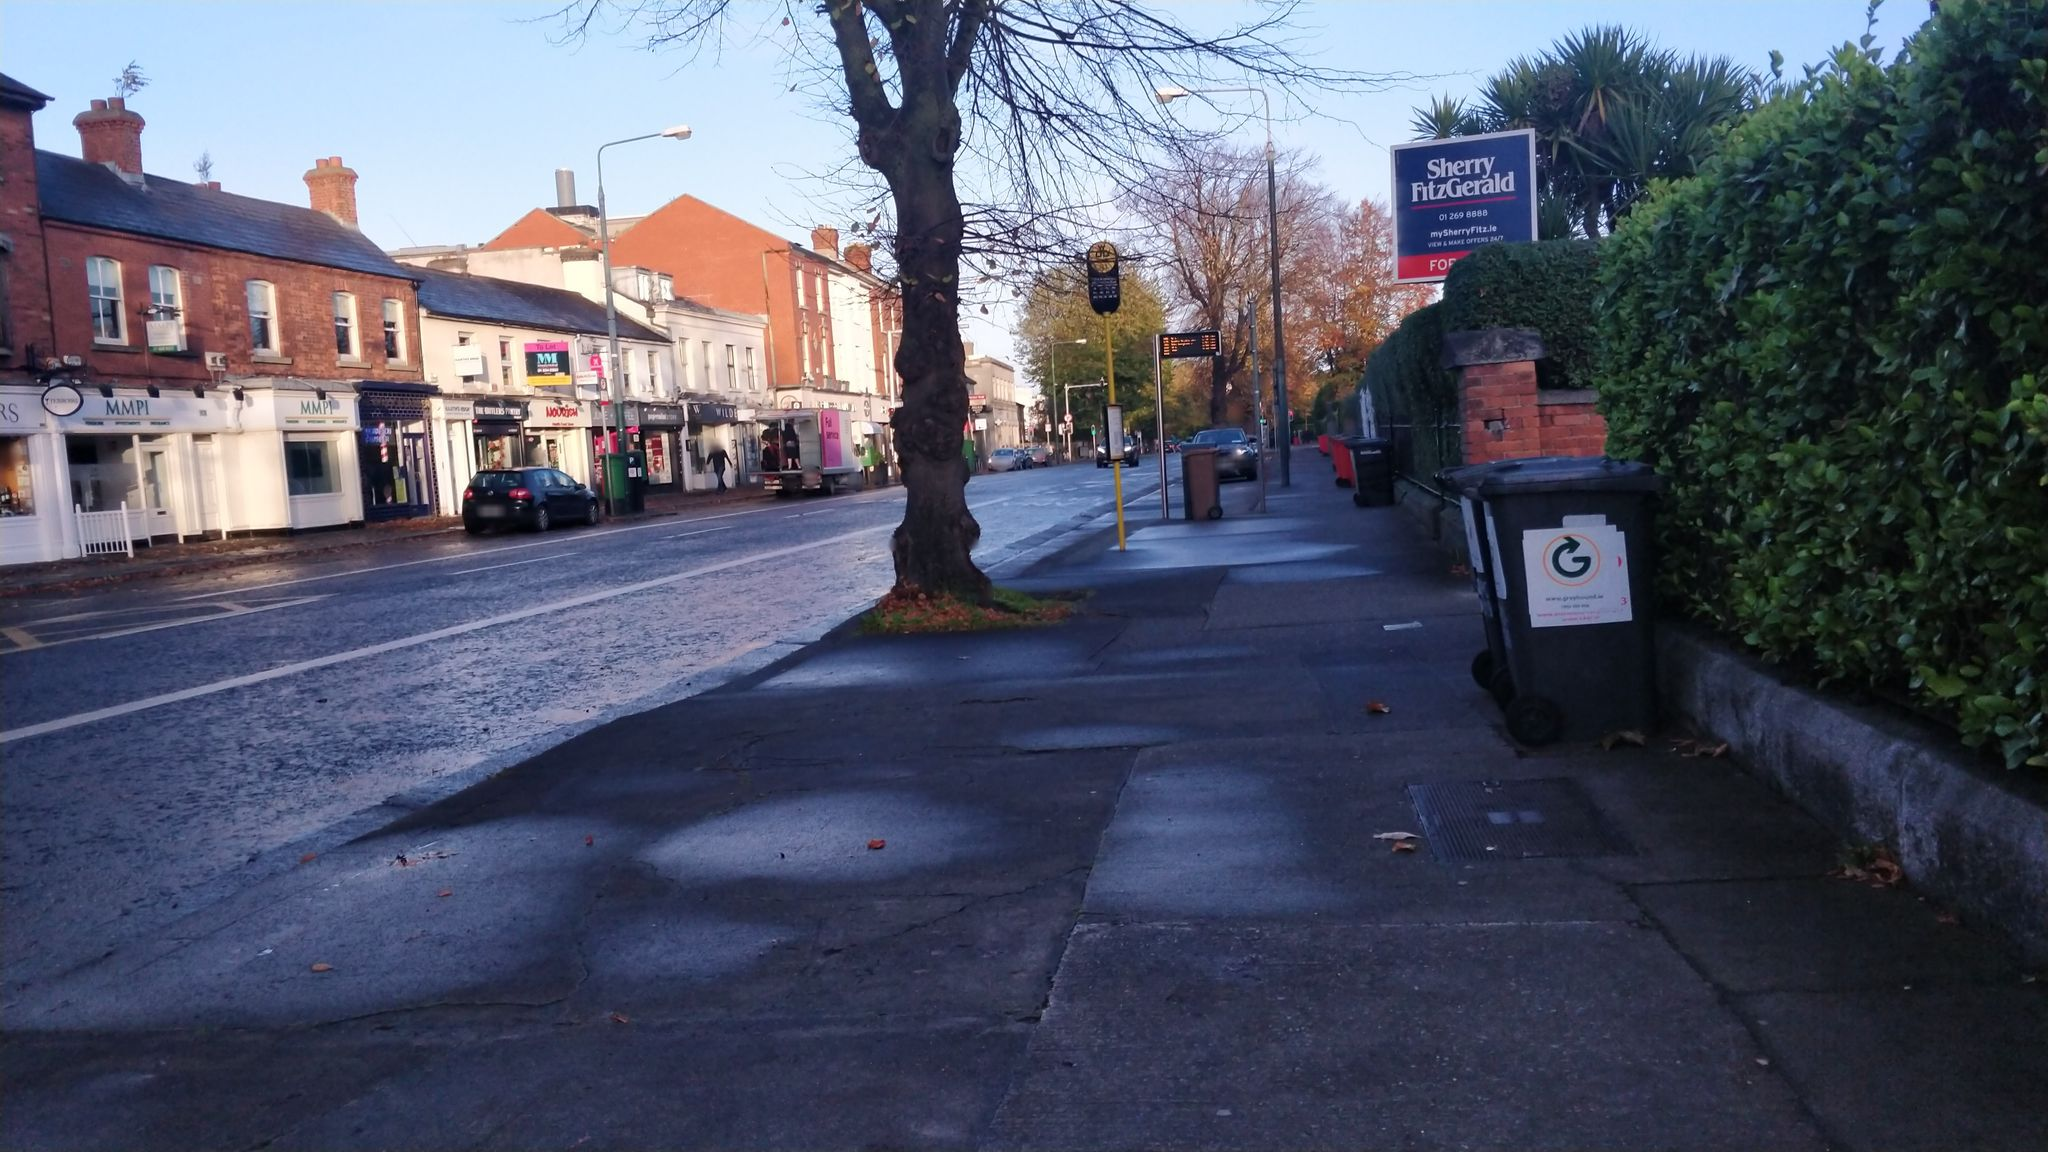property sign: (1371, 120, 1559, 295), (509, 322, 591, 404)
